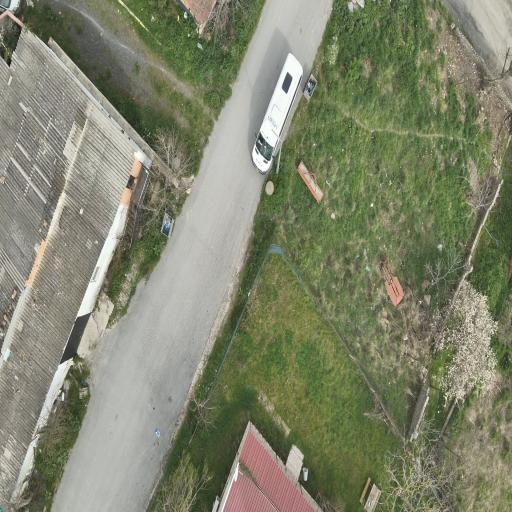car: (253, 54, 302, 173), (0, 0, 22, 14)
